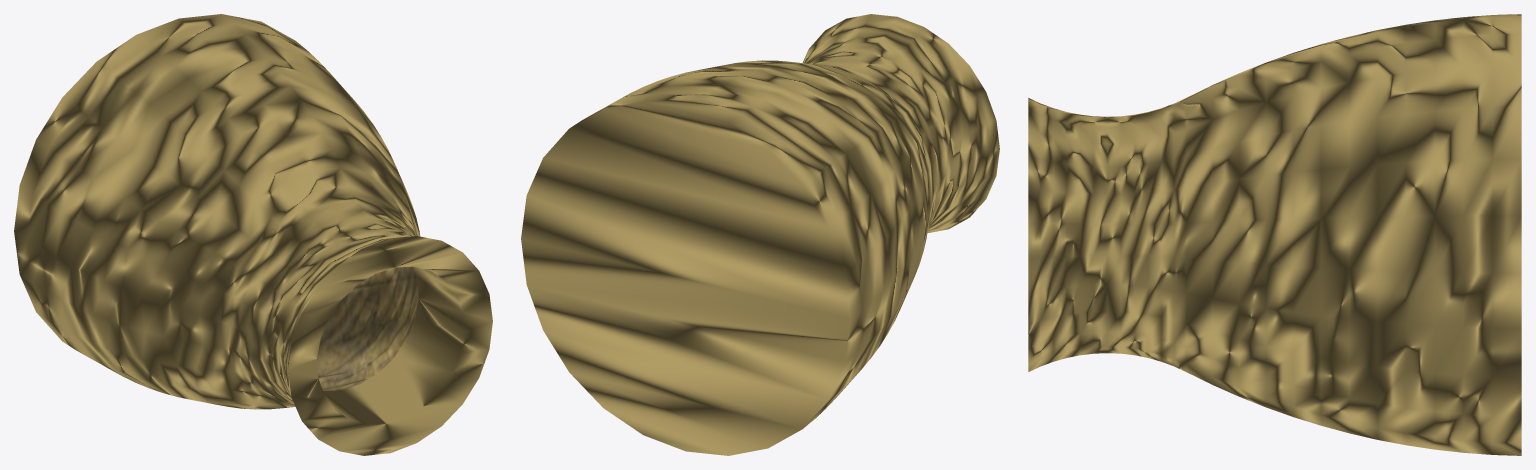
The model's file is model_align.obj.
3 renders of one model, left to right at view 1: azimuth 30°, elevation 25°; view 2: azimuth 150°, elevation 25°; view 3: azimuth 270°, elevation 25°, orthographic. The views are drawn at different scales.
Bounding box in the file's own units: 0.124 × 0.124 × 0.1379.
